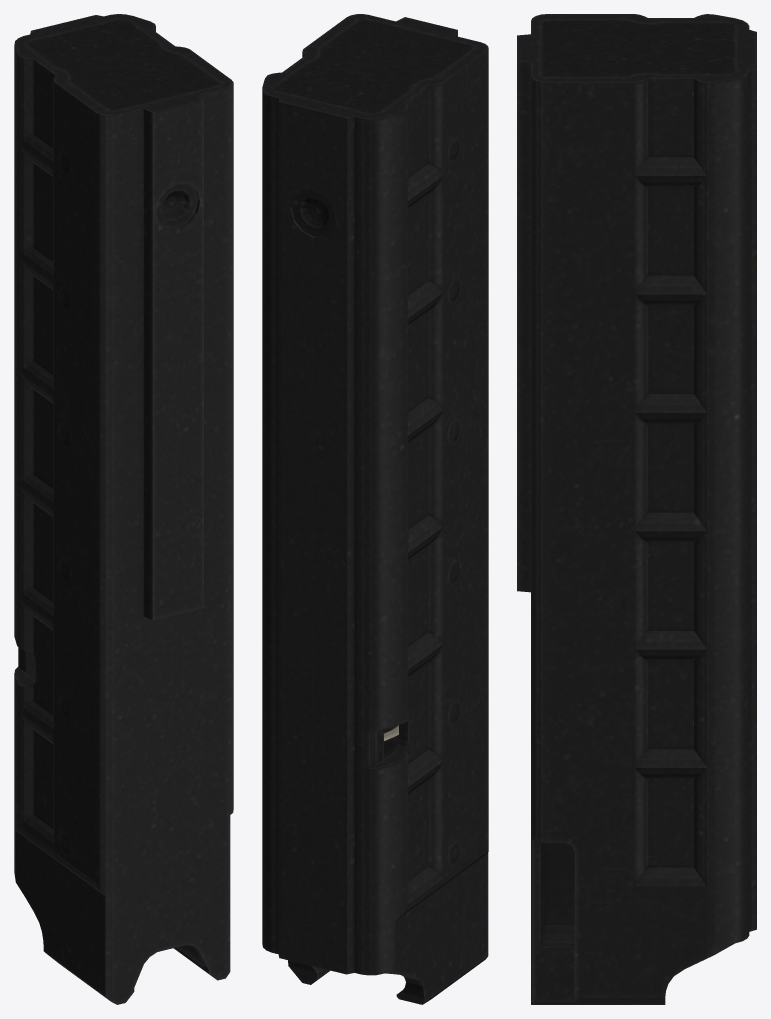
3 views of the same model, side by side, from view 1: azimuth 30°, elevation 25°; view 2: azimuth 150°, elevation 25°; view 3: azimuth 270°, elevation 25° (orthographic). The views are drawn at different scales.
Visible parts, largest first — view 1: TW_5de8ea8ffd6b4e6e2276dc35_PZ_Import; view 2: TW_5de8ea8ffd6b4e6e2276dc35_PZ_Import; view 3: TW_5de8ea8ffd6b4e6e2276dc35_PZ_Import.
Part boxes in pixels (x1=…): TW_5de8ea8ffd6b4e6e2276dc35_PZ_Import: x1=14, y1=14, x2=233, y2=1004; TW_5de8ea8ffd6b4e6e2276dc35_PZ_Import: x1=262, y1=14, x2=488, y2=1004; TW_5de8ea8ffd6b4e6e2276dc35_PZ_Import: x1=517, y1=14, x2=756, y2=1004.
Bounding box in the file's own units: 0.0145 × 0.0212 × 0.0907.
Materials: 1 (1 with a texture image).
